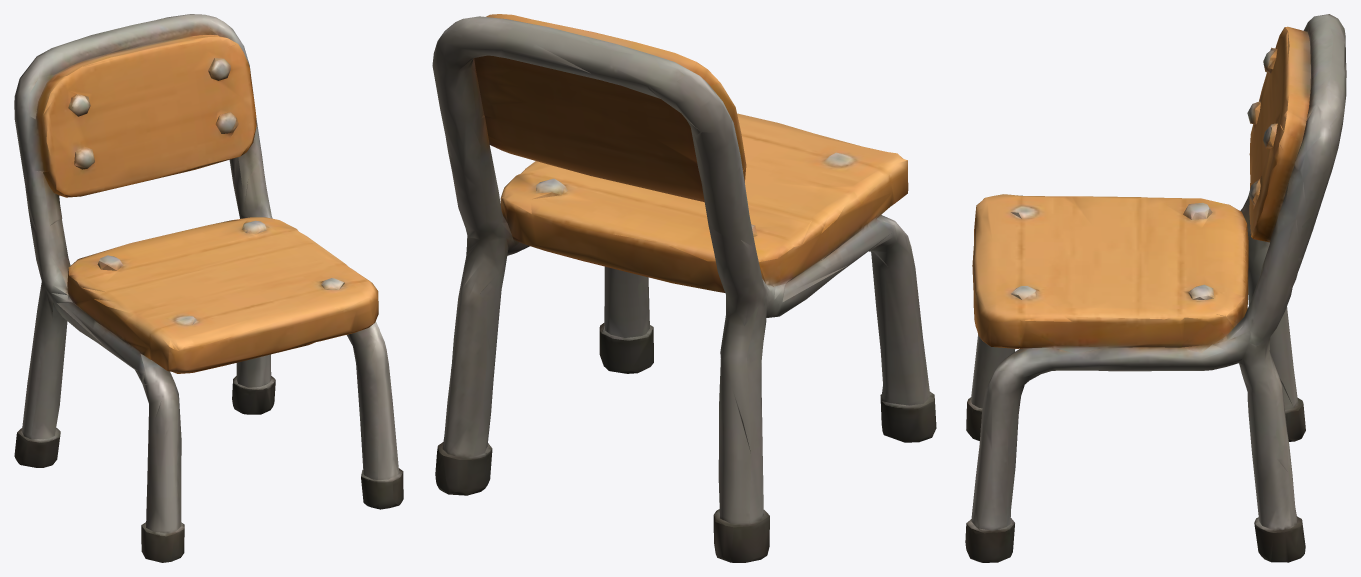
Rendered from chair21.glb.
3 renders of one model, left to right at view 1: azimuth 30°, elevation 25°; view 2: azimuth 150°, elevation 25°; view 3: azimuth 270°, elevation 25°, orthographic. The views are drawn at different scales.
Bounding box in the file's own units: 0.1549 × 0.2249 × 0.1758.
1 material, 1 textured.
